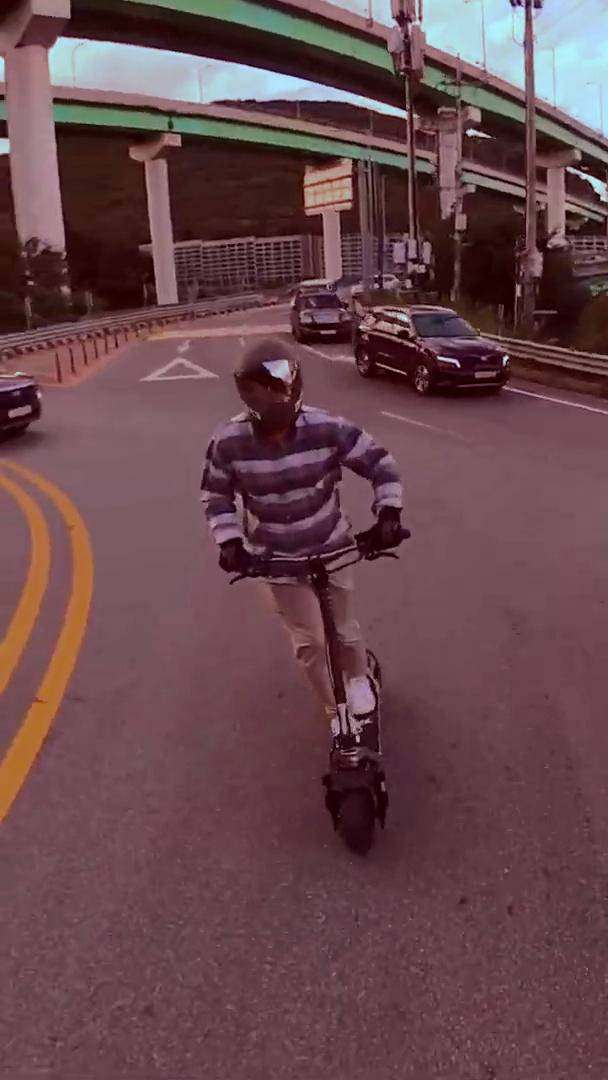helmet: (197, 331, 416, 860)
